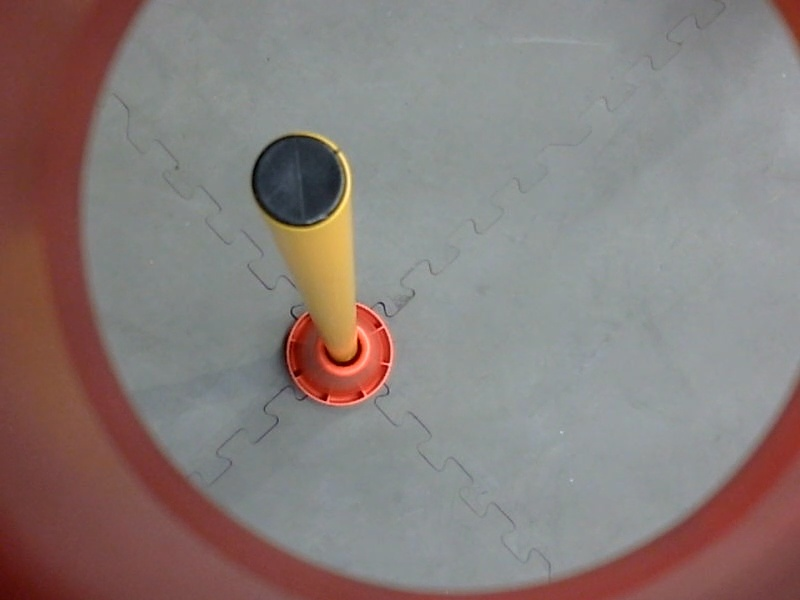tip: (243, 123, 363, 237)
